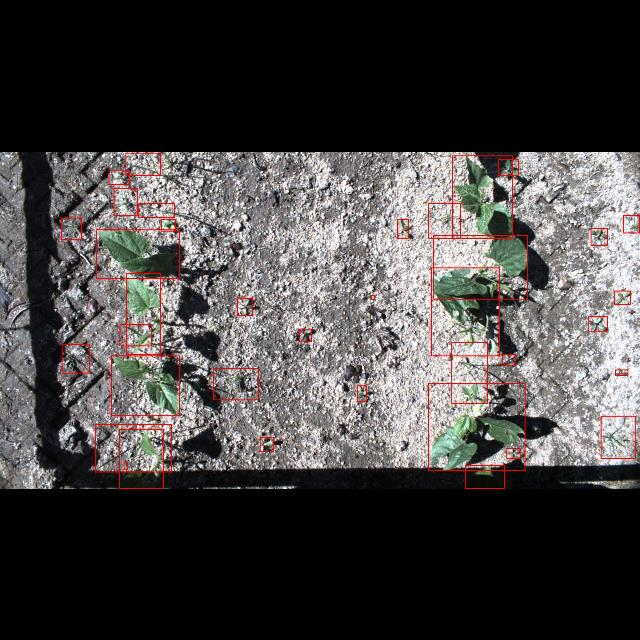crop: (429, 384, 525, 471), (433, 235, 527, 299), (431, 267, 499, 355), (452, 154, 512, 238), (96, 228, 180, 278), (111, 355, 179, 415), (126, 272, 160, 354), (119, 428, 163, 488), (466, 466, 504, 488)
weed: (95, 424, 171, 472), (452, 341, 488, 403), (601, 416, 635, 458), (214, 368, 258, 399), (428, 202, 460, 238), (62, 343, 90, 372), (126, 152, 160, 174), (120, 323, 150, 345), (114, 187, 136, 215), (139, 202, 175, 216), (61, 217, 81, 239), (498, 158, 518, 174), (588, 316, 608, 332), (623, 214, 639, 232), (109, 170, 129, 184), (591, 228, 607, 245), (238, 297, 252, 315), (614, 290, 630, 304), (398, 218, 408, 238), (260, 437, 274, 451), (161, 218, 175, 230), (299, 328, 311, 342), (358, 385, 367, 401), (502, 354, 516, 364), (506, 448, 520, 458), (616, 369, 628, 375), (124, 463, 128, 469), (372, 295, 374, 299)
